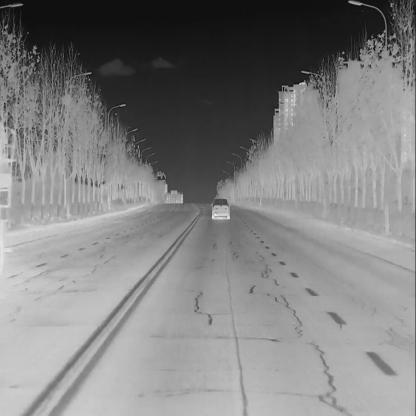car: (211, 197, 230, 219)
